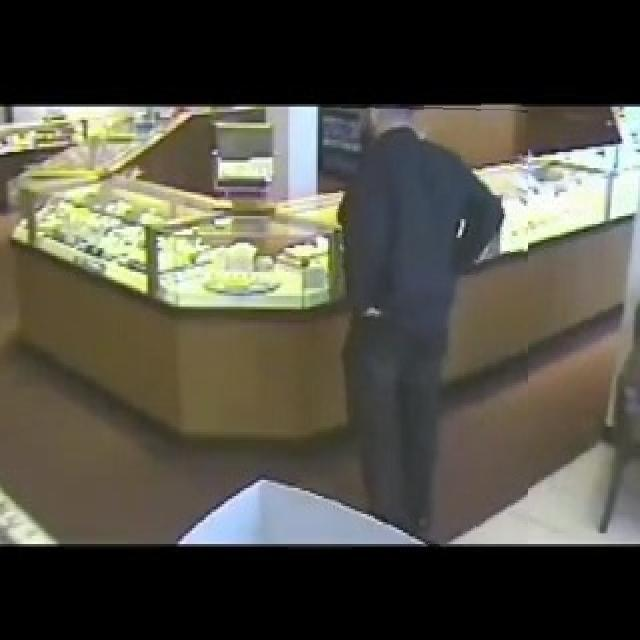normal: (324, 104, 528, 544)
